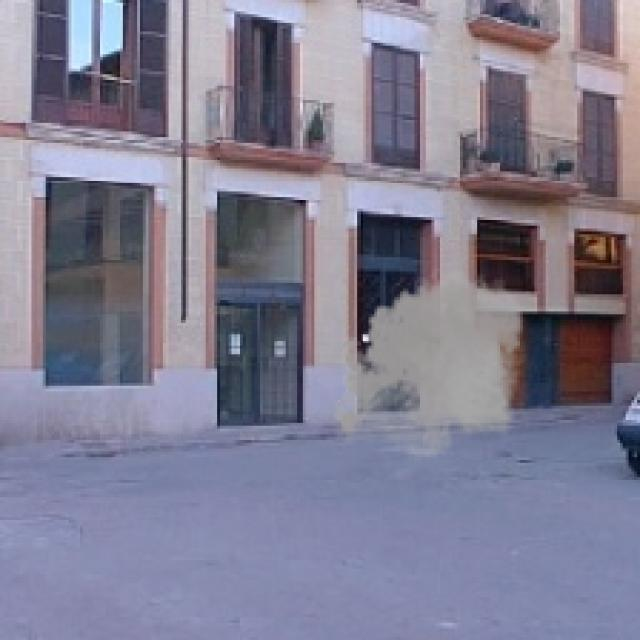Smoke: (328, 263, 532, 468)
